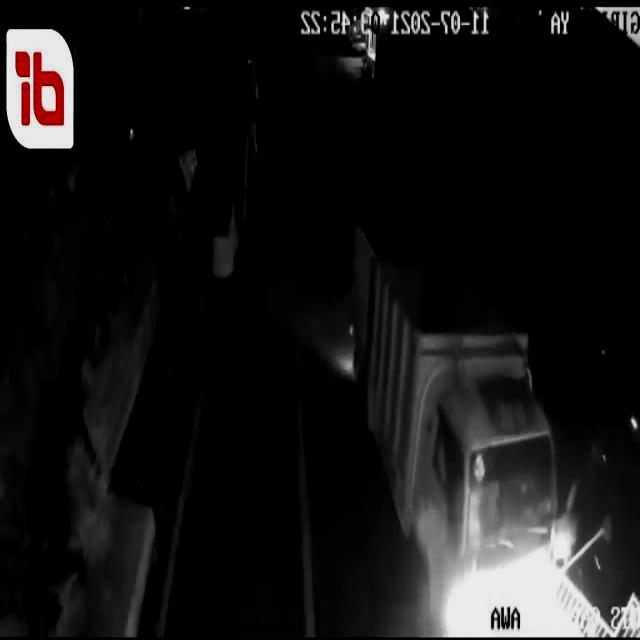accident: (350, 218, 640, 640)
